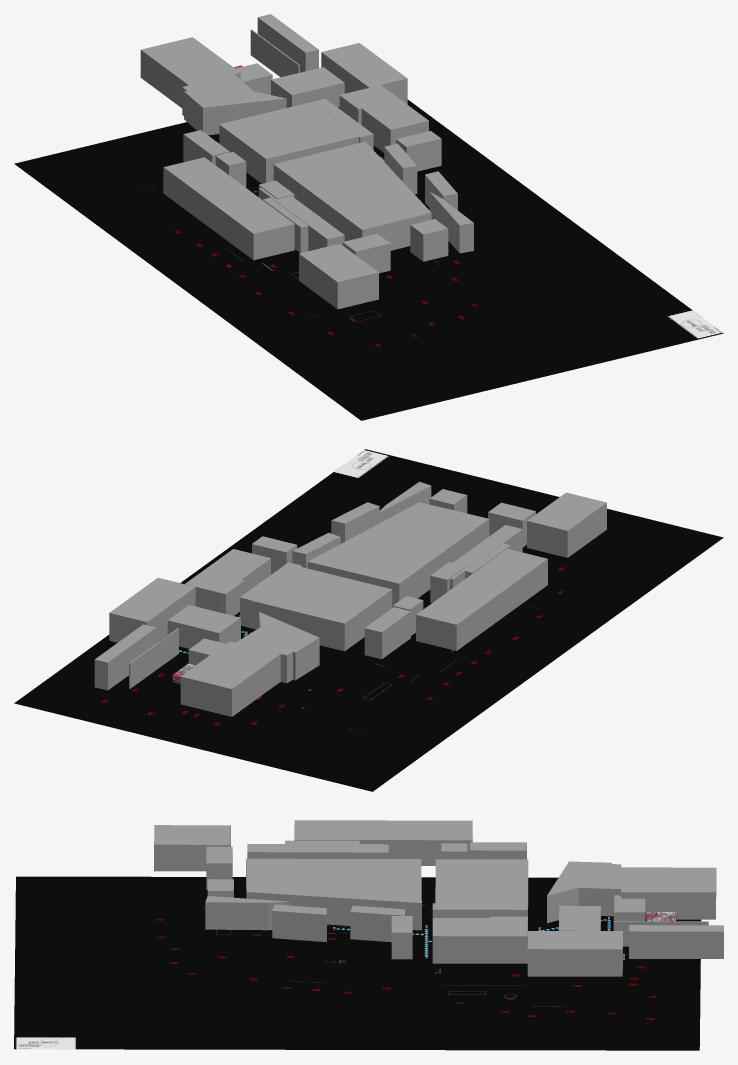
The model's file is MODEL_FLOOR1_FULL_V4.fbx.
The picture shows the model from 3 angles, top to bottom: view 1: azimuth 30°, elevation 25°; view 2: azimuth 150°, elevation 25°; view 3: azimuth 270°, elevation 25°; orthographic projection. The views are drawn at different scales.
Parts seen in each view (by area): view 1: MapPlane, pCube2, pCube1, pCube17, pCube16, pCube24, pCube6, pCube26, pCube20, pCube9, pCube21, pCube4 (+13 smaller); view 2: MapPlane, pCube2, pCube17, pCube1, pCube24, pCube16, pCube20, pCube6, pCube9, pCube21, pCube18, pCube25 (+13 smaller); view 3: MapPlane, pCube2, pCube1, pCube6, pCube20, pCube24, pCube17, pCube21, pCube16, pCube12, pCube25, pCube11 (+13 smaller).
Part boxes in pixels (x1,y1,x2,y2): MapPlane: (14, 99, 723, 420); pCube2: (273, 141, 431, 250); pCube1: (163, 157, 294, 260); pCube17: (219, 102, 358, 183); pCube16: (299, 243, 378, 309); pCube24: (140, 37, 240, 107); pCube6: (343, 85, 428, 152); pCube26: (184, 90, 286, 135); pCube20: (321, 43, 407, 104); pCube9: (271, 67, 344, 107); pCube21: (257, 14, 318, 72); pCube4: (258, 187, 344, 251); MapPlane: (14, 449, 723, 791); pCube2: (307, 502, 489, 607); pCube17: (248, 566, 392, 651); pCube1: (416, 549, 547, 650); pCube24: (180, 641, 280, 716); pCube16: (527, 492, 606, 557); pCube20: (109, 577, 195, 642); pCube6: (185, 549, 270, 612); pCube9: (167, 605, 240, 648); pCube21: (94, 624, 156, 690); pCube18: (364, 607, 410, 659); pCube25: (236, 627, 310, 683); MapPlane: (14, 876, 701, 1050); pCube2: (246, 858, 421, 930); pCube1: (294, 820, 472, 865); pCube6: (432, 918, 527, 963); pCube20: (527, 931, 622, 976); pCube24: (621, 867, 716, 919); pCube17: (435, 859, 528, 917); pCube21: (629, 925, 723, 958); pCube16: (154, 825, 230, 871); pCube12: (205, 896, 290, 930); pCube25: (578, 863, 621, 916); pCube11: (272, 904, 326, 942).
Size of the model in its own units: 4321 by 861 by 7446.
